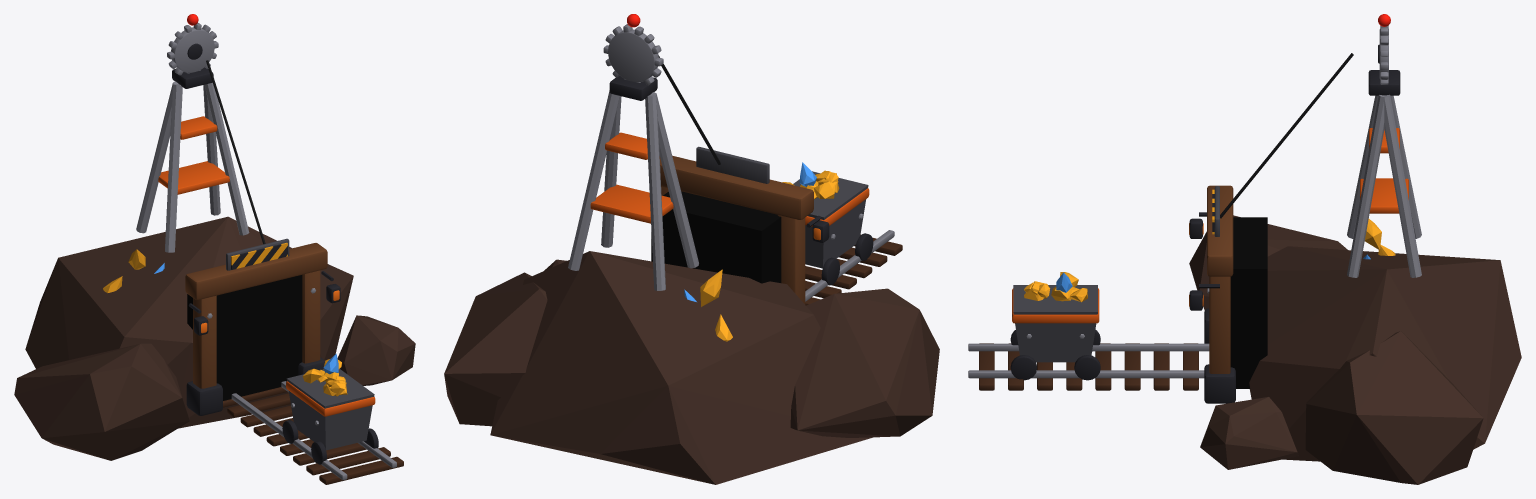
Rendered from MineShaft.obj.
3 views of the same model, side by side, from view 1: azimuth 30°, elevation 25°; view 2: azimuth 150°, elevation 25°; view 3: azimuth 270°, elevation 25° (orthographic). The views are drawn at different scales.
Visible parts, largest first — view 1: MineShaft; view 2: MineShaft; view 3: MineShaft.
Part boxes in pixels (<box>): MineShaft: <box>14,14,415,484</box>; MineShaft: <box>444,14,939,484</box>; MineShaft: <box>968,14,1521,484</box>.
Bounding box in the file's own units: 1.72 × 1.68 × 2.09.
